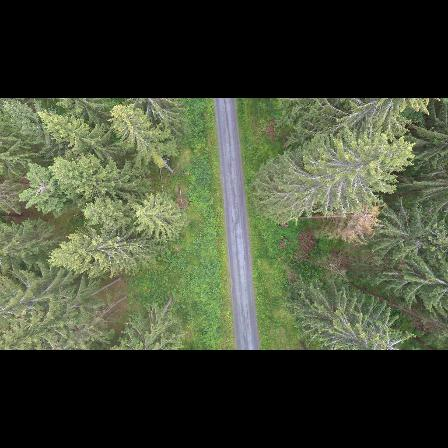Sick: (24, 168, 60, 206)
